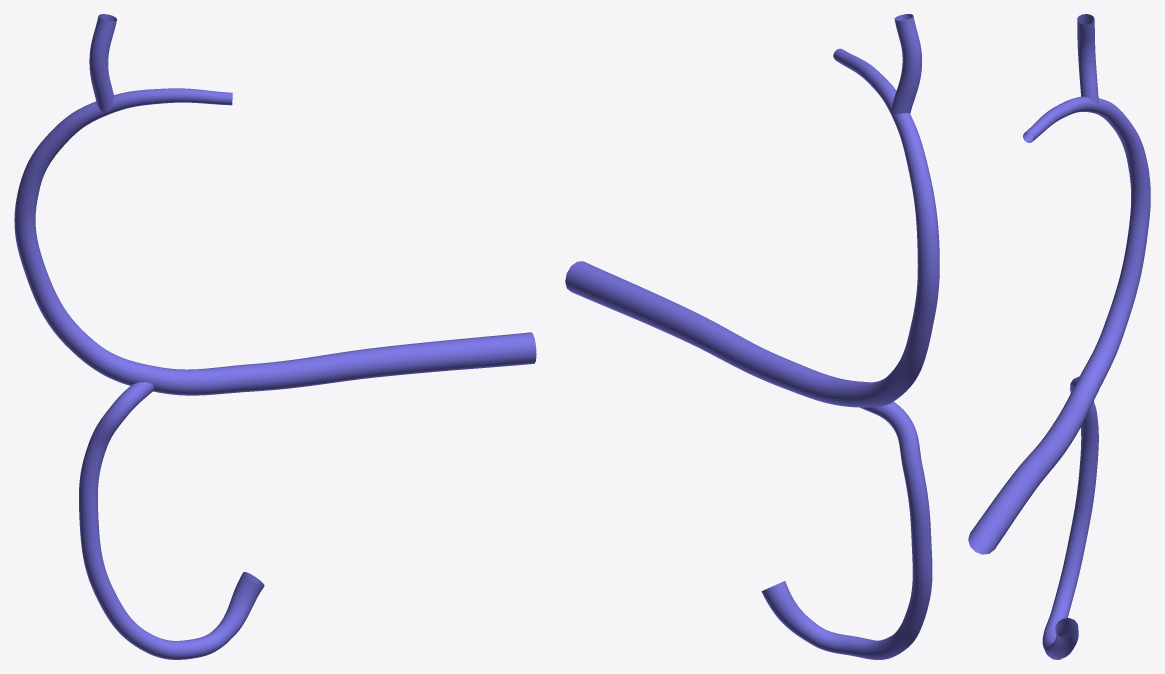
File: Right_colic_vein.glb
The picture shows the model from 3 angles, left to right: view 1: azimuth 30°, elevation 25°; view 2: azimuth 150°, elevation 25°; view 3: azimuth 270°, elevation 25°; orthographic projection. The views are drawn at different scales.
Parts seen in each view (by area): view 1: Right_colic_vein_BezierCurve.428; view 2: Right_colic_vein_BezierCurve.428; view 3: Right_colic_vein_BezierCurve.428.
Part boxes in pixels (left/top/right/bottom): Right_colic_vein_BezierCurve.428: left=14, top=14, right=536, bottom=659; Right_colic_vein_BezierCurve.428: left=565, top=14, right=939, bottom=659; Right_colic_vein_BezierCurve.428: left=968, top=14, right=1150, bottom=659.
Bounding box in the file's own units: 0.0474 × 0.0671 × 0.0185.
